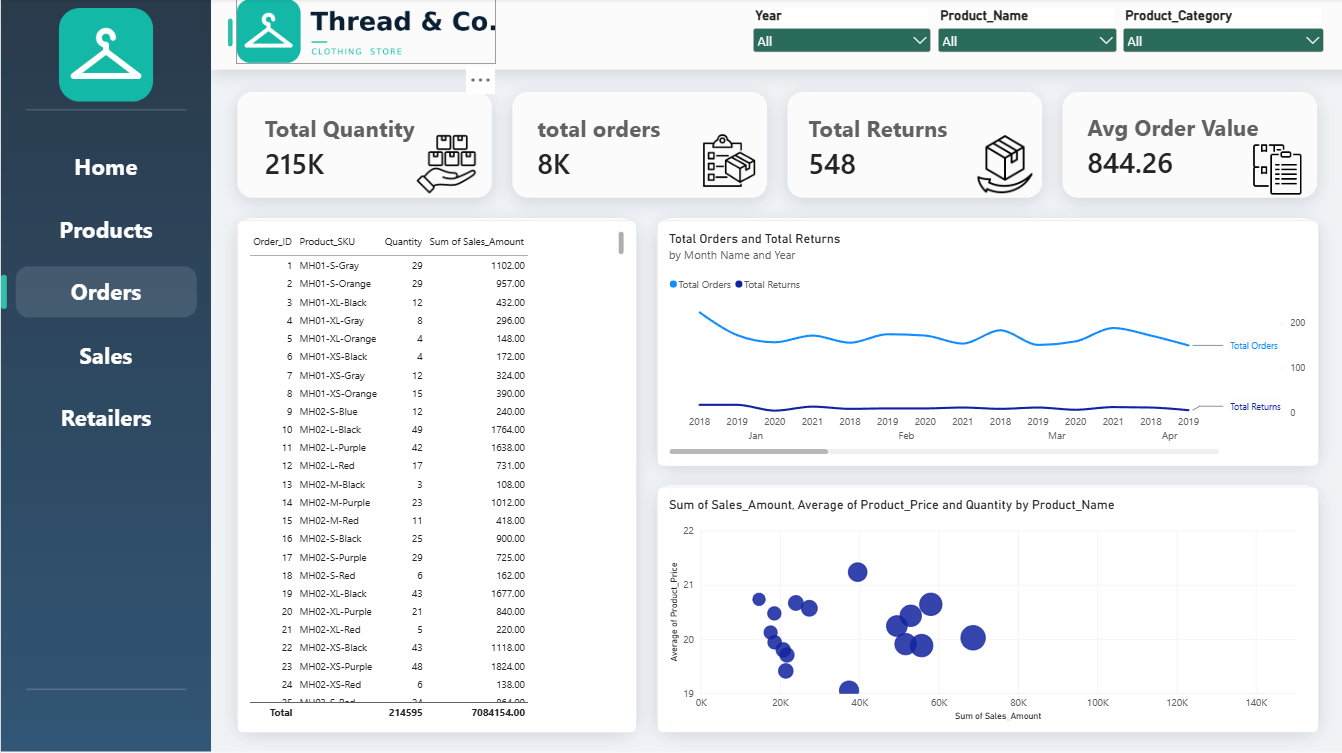

Layout of this report page (visuals, bound fields, positions):
{"tool":"powerbi","page":{"name":"Orders","canvas":[1920,1080],"ordinal":2},"visuals":[{"type":"image","box":[50,14.3,200,133.9],"z":0},{"type":"image","box":[335.7,0,371.4,94.6],"z":1000},{"type":"shape","box":[50,390,200,59],"z":2000},{"type":"shape","box":[50,210,200,59],"z":3000},{"type":"shape","box":[50,300,200,59],"z":4000},{"type":"shape","box":[50,570,200,59],"z":5000},{"type":"tableEx","fields":{"Values":["Orders.Order_ID","Orders.Product_SKU","Sum(Orders. Order_Quantity )","Sum(Orders.Sales_Amount)"]},"box":[337,318,570,732],"z":6000},{"type":"lineChart","fields":{"Category":["Calendar.Month Name","Calendar.Year"],"Y2":["Measures (3).total orders","Measures (3).Total Returns"]},"box":[936.8,317.3,945,351],"z":7000},{"type":"scatterChart","fields":{"Category":["Products.Product_Name"],"Size":["Sum(Orders. Order_Quantity )"],"X":["Sum(Orders.Sales_Amount)"],"Y":["Avg(Orders.Product_Price)"]},"box":[937,699,945,351],"z":8000},{"type":"slicer","fields":{"Values":["Calendar.Year"]},"box":[1070.1,14.4,263.5,81.2],"z":10001},{"type":"slicer","fields":{"Values":["Products.Product_Name"]},"box":[1333.5,14.4,265.3,81.2],"z":10002},{"type":"slicer","fields":{"Values":["Products.Product_Category"]},"box":[1598.8,14.4,295.9,81.2],"z":10003},{"type":"cardVisual","fields":{"Data":["Measures (3).Total Quantity"]},"box":[360.9,138.9,296,150],"z":10004},{"type":"cardVisual","fields":{"Data":["Measures (3).total orders"]},"box":[749.6,138.7,321,149.6],"z":10005},{"type":"cardVisual","fields":{"Data":["Measures (3).Total Returns"]},"box":[1137.7,138.7,342.9,149.6],"z":10006},{"type":"cardVisual","fields":{"Data":["Measures (3).Avg Order Value"]},"box":[1535.1,144.9,330.2,135.3],"z":10007},{"type":"image","box":[565.7,194.8,140.3,85.7],"z":10008},{"type":"image","box":[999,194.8,84.2,74.8],"z":10009},{"type":"image","box":[1387,194.8,93.5,85.7],"z":10010},{"type":"image","box":[1782.9,208.8,82.6,71.7],"z":10011},{"type":"shape","box":[50,480,200,59],"z":11011}]}

Visuals, with their boxes on the page's 1920x1080 design canvas (x1, y1, x2, y2). These are canvas units, not pixel positions in the 1342x753 screenshot, which may show the page scaled, cropped or inside an application window:
image: rect(50, 14, 250, 148)
image: rect(336, 0, 707, 95)
shape: rect(50, 390, 250, 449)
shape: rect(50, 210, 250, 269)
shape: rect(50, 300, 250, 359)
shape: rect(50, 570, 250, 629)
tableEx - Orders.Order_ID x Orders.Product_SKU: rect(337, 318, 907, 1050)
lineChart - Calendar.Month Name x Calendar.Year: rect(937, 317, 1882, 668)
scatterChart - Products.Product_Name x Sum(Orders. Order_Quantity ): rect(937, 699, 1882, 1050)
slicer - Calendar.Year: rect(1070, 14, 1334, 96)
slicer - Products.Product_Name: rect(1334, 14, 1599, 96)
slicer - Products.Product_Category: rect(1599, 14, 1895, 96)
cardVisual - Measures (3).Total Quantity: rect(361, 139, 657, 289)
cardVisual - Measures (3).total orders: rect(750, 139, 1071, 288)
cardVisual - Measures (3).Total Returns: rect(1138, 139, 1481, 288)
cardVisual - Measures (3).Avg Order Value: rect(1535, 145, 1865, 280)
image: rect(566, 195, 706, 280)
image: rect(999, 195, 1083, 270)
image: rect(1387, 195, 1480, 280)
image: rect(1783, 209, 1866, 280)
shape: rect(50, 480, 250, 539)
